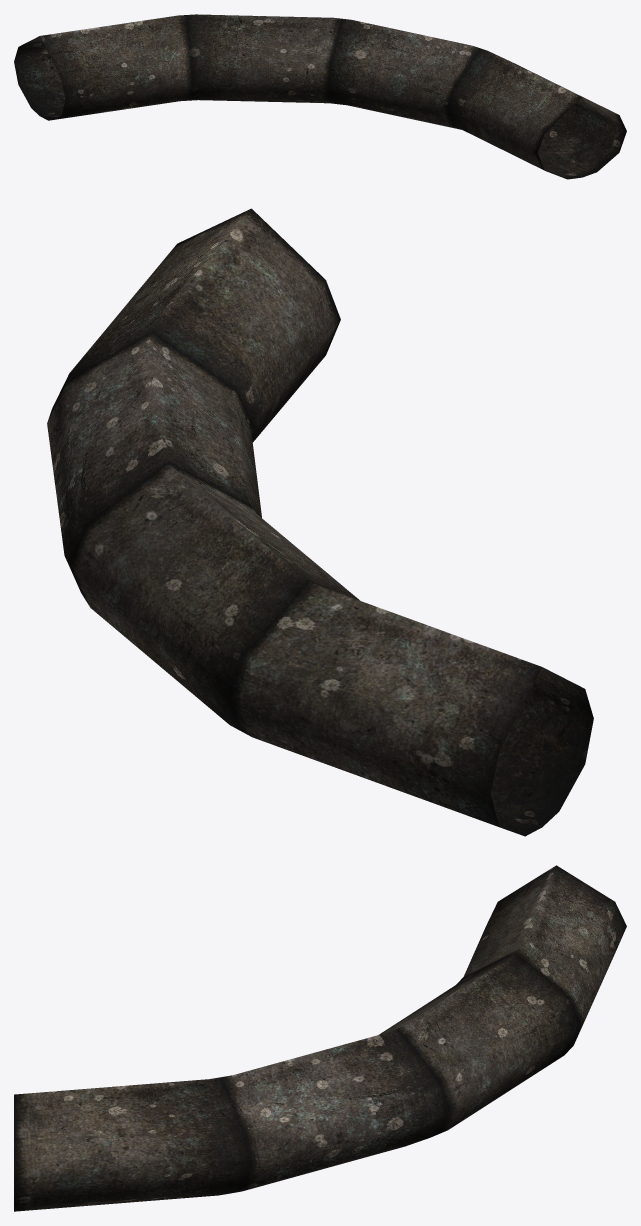
The model's file is large_90_left.dae.
3 views of the same model, one above another, from view 1: azimuth 30°, elevation 25°; view 2: azimuth 150°, elevation 25°; view 3: azimuth 270°, elevation 25° (orthographic). The views are drawn at different scales.
Parts seen in each view (by area): view 1: tentacle_large_90_left; view 2: tentacle_large_90_left; view 3: tentacle_large_90_left.
Part boxes in pixels (box(x1,y1,x2,y2)): tentacle_large_90_left: box(14, 14, 626, 179); tentacle_large_90_left: box(47, 208, 593, 836); tentacle_large_90_left: box(14, 865, 626, 1211).
Bounding box in the file's own units: 2.26 × 0.4458 × 2.26.
